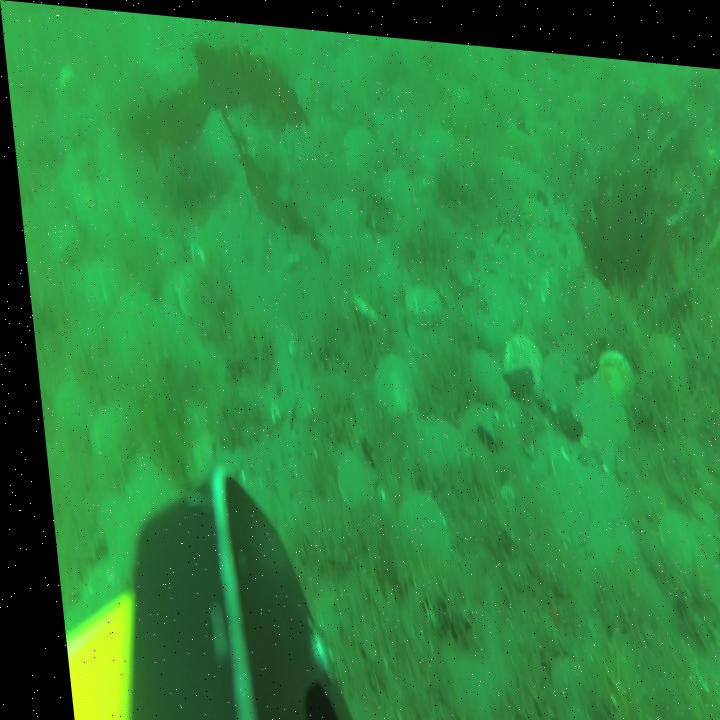scallop: (388, 477, 443, 563), (568, 368, 623, 449), (647, 495, 700, 577), (640, 315, 689, 397), (535, 462, 587, 539), (408, 406, 459, 480), (113, 456, 167, 525), (366, 346, 416, 411), (527, 333, 574, 401), (78, 404, 124, 470), (462, 337, 505, 404), (169, 265, 214, 328), (493, 323, 538, 384), (476, 267, 522, 324), (45, 379, 88, 437), (328, 444, 370, 503), (339, 120, 380, 180), (572, 263, 611, 315), (518, 211, 556, 259), (398, 274, 438, 319), (324, 191, 359, 238), (518, 187, 547, 222)
